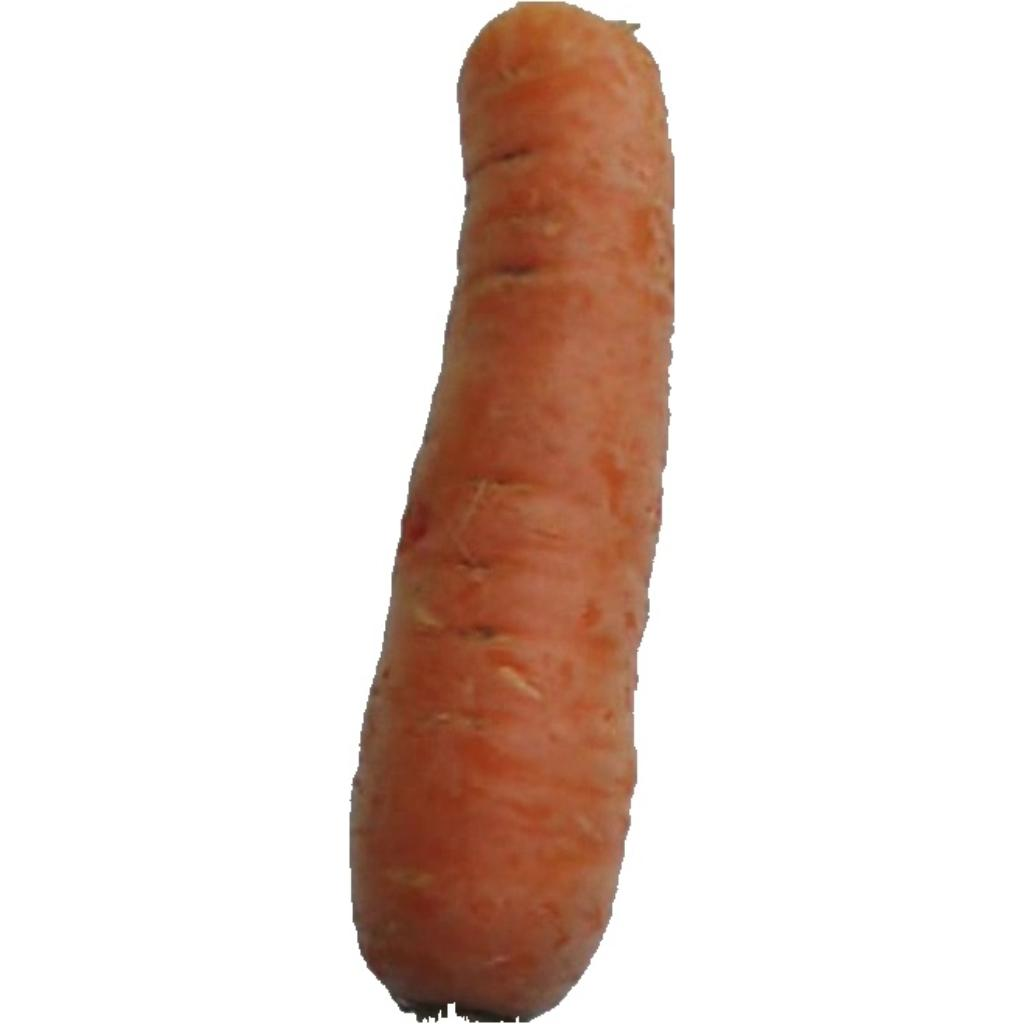carrot: (352, 4, 674, 1020)
